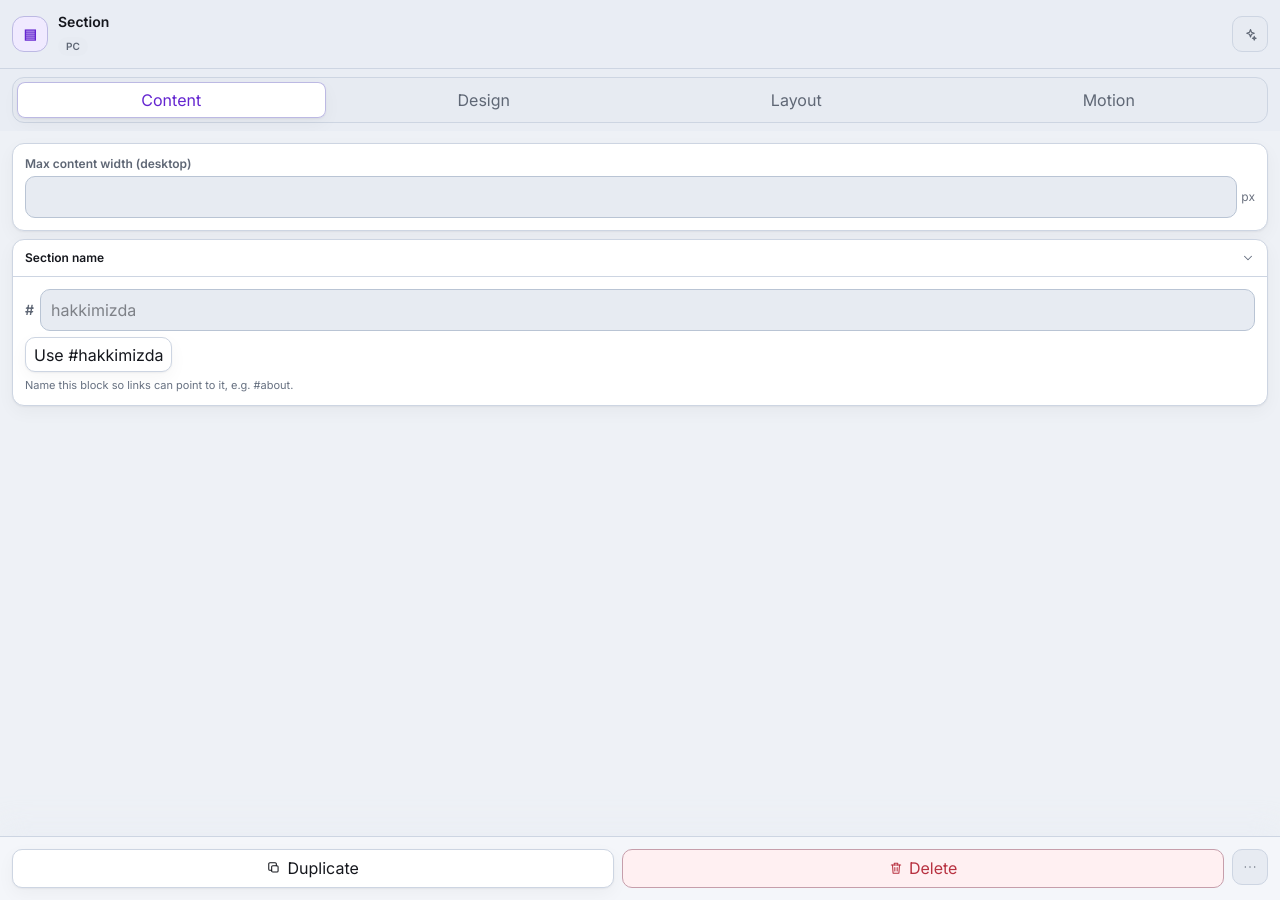
Scenario: Section name field › says why a name is refused and leaves the block alone
Type "team" into the field with placeholder "hakkimizda" at x=648, y=310, box [40,289,1255,331]
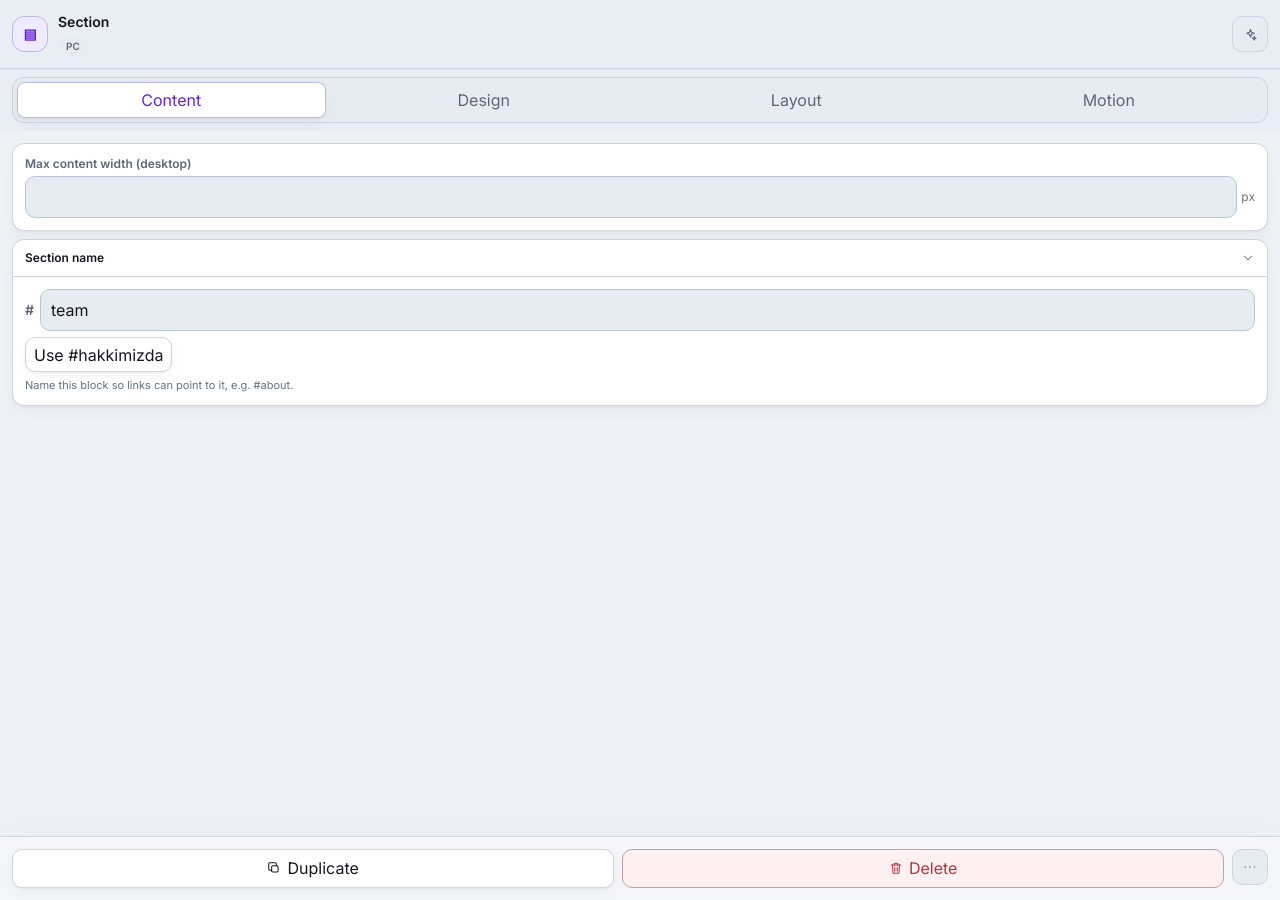
Leave the field with placeholder "hakkimizda", box [40,289,1255,331]
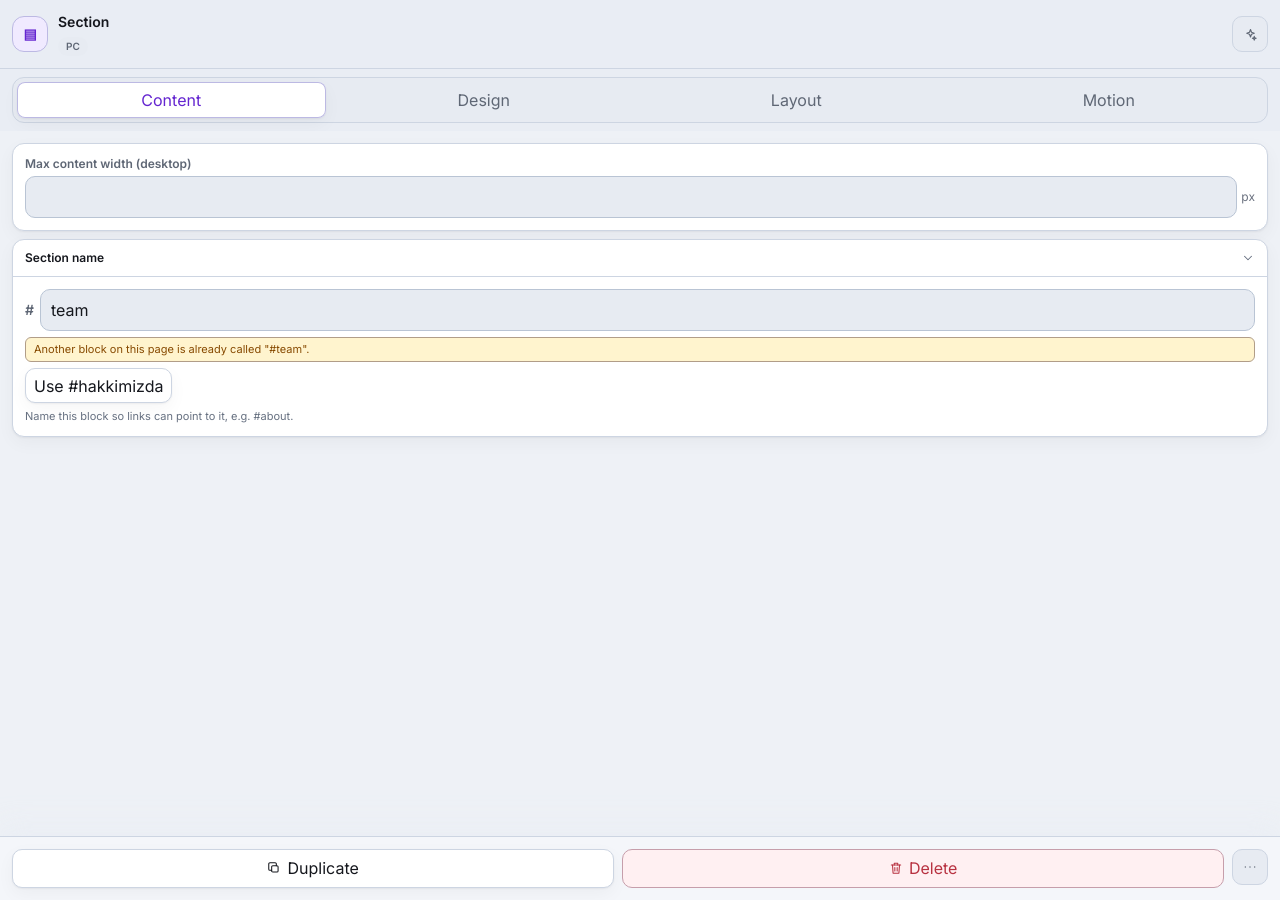
Expected: the text "Another block on this page is already called \"#team\"." is shown, [25,337,1255,362]
